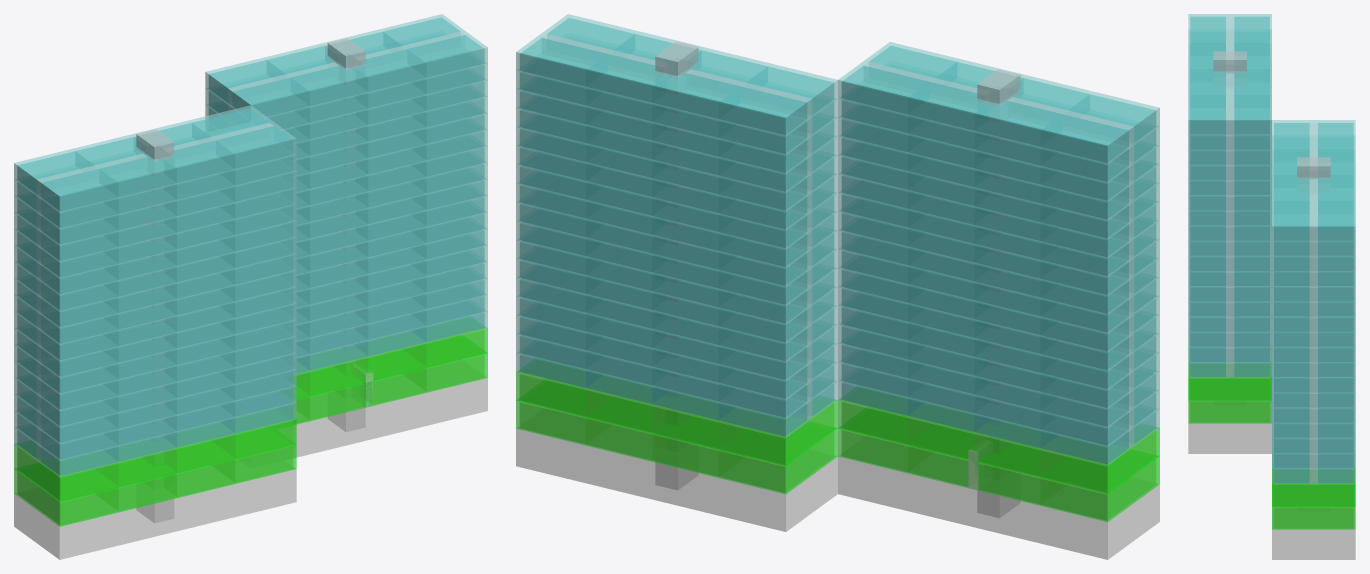
File: TowerRotate.glb
The picture shows the model from 3 angles, left to right: view 1: azimuth 30°, elevation 25°; view 2: azimuth 150°, elevation 25°; view 3: azimuth 270°, elevation 25°; orthographic projection. The views are drawn at different scales.
Visible parts, largest first — view 1: 7524_mesh, 6924_mesh, 6960_mesh, 6963_mesh, 6981_mesh, 6360_mesh, 7161_mesh, 7293_mesh, 7227_mesh, 7359_mesh, 7392_mesh, 7425_mesh (+172 smaller); view 2: 7524_mesh, 6924_mesh, 6360_mesh, 6960_mesh, 6981_mesh, 6381_mesh, 6363_mesh, 6963_mesh, 7260_mesh, 7293_mesh, 6759_mesh, 6996_mesh (+190 smaller); view 3: 6924_mesh, 7524_mesh, 6360_mesh, 6960_mesh, 6363_mesh, 6963_mesh, 6381_mesh, 6981_mesh, 7491_mesh, 6891_mesh, 6393_mesh, 6984_mesh (+118 smaller).
Part boxes in pixels (<box>): 7524_mesh: <box>14,105,296,212</box>; 6924_mesh: <box>205,14,487,117</box>; 6960_mesh: <box>14,467,296,559</box>; 6963_mesh: <box>14,442,296,526</box>; 6981_mesh: <box>14,418,296,501</box>; 6360_mesh: <box>293,376,487,457</box>; 7161_mesh: <box>14,318,296,394</box>; 7293_mesh: <box>14,252,296,328</box>; 7227_mesh: <box>14,285,296,361</box>; 7359_mesh: <box>14,219,296,295</box>; 7392_mesh: <box>14,203,296,278</box>; 7425_mesh: <box>14,186,296,262</box>; 7524_mesh: <box>838,42,1159,164</box>; 6924_mesh: <box>516,14,837,136</box>; 6360_mesh: <box>516,427,837,531</box>; 6960_mesh: <box>838,454,1159,559</box>; 6981_mesh: <box>838,398,1159,493</box>; 6381_mesh: <box>516,370,837,465</box>; 6363_mesh: <box>516,398,837,494</box>; 6963_mesh: <box>838,426,1159,521</box>; 7260_mesh: <box>838,228,1159,314</box>; 7293_mesh: <box>838,209,1159,296</box>; 6759_mesh: <box>516,144,837,230</box>; 6996_mesh: <box>838,379,1159,465</box>; 6924_mesh: <box>1272,120,1355,241</box>; 7524_mesh: <box>1188,14,1271,135</box>; 6360_mesh: <box>1272,507,1355,559</box>; 6960_mesh: <box>1188,401,1271,453</box>; 6363_mesh: <box>1272,484,1355,529</box>; 6963_mesh: <box>1188,378,1271,423</box>; 6381_mesh: <box>1272,469,1355,506</box>; 6981_mesh: <box>1188,363,1271,400</box>; 7491_mesh: <box>1188,29,1271,150</box>; 6891_mesh: <box>1272,135,1355,256</box>; 6393_mesh: <box>1274,484,1353,505</box>; 6984_mesh: <box>1190,378,1269,399</box>.
Size of the model in its own units: 120 by 91 by 40.
